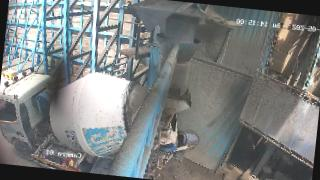cement_mixer_truck: (0, 68, 190, 180)
swing_chute: (152, 37, 200, 98)
